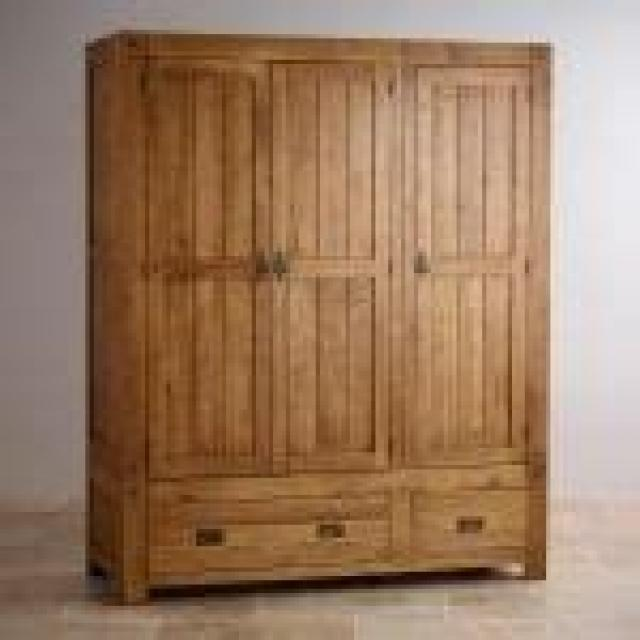Closet: (76, 19, 560, 608)
